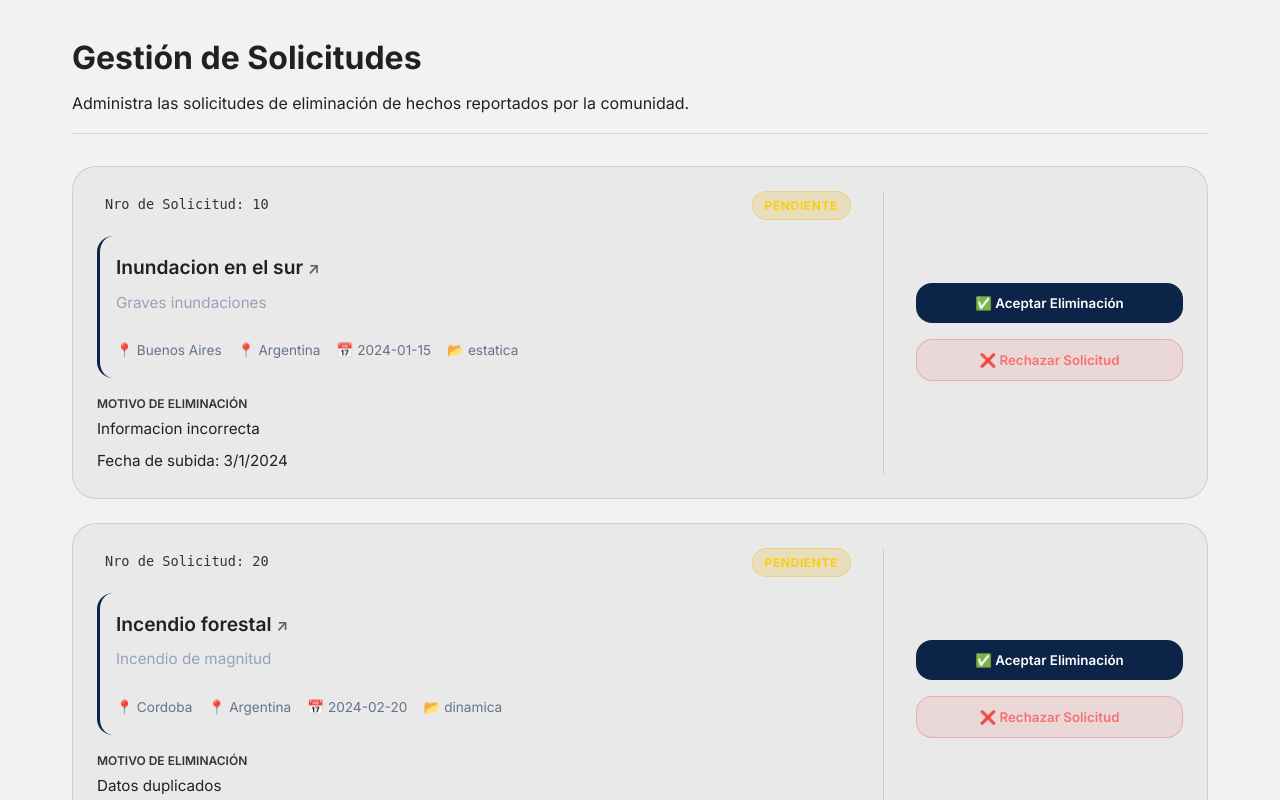
Test case: GestionSolicitudes › estado de procesamiento › muestra "Procesando..." y deshabilita botones durante la accion
Click the button "✅ Aceptar Eliminación" in the row of "Graves inundaciones" at {"x": 1050, "y": 303}, box [916,283,1183,323]
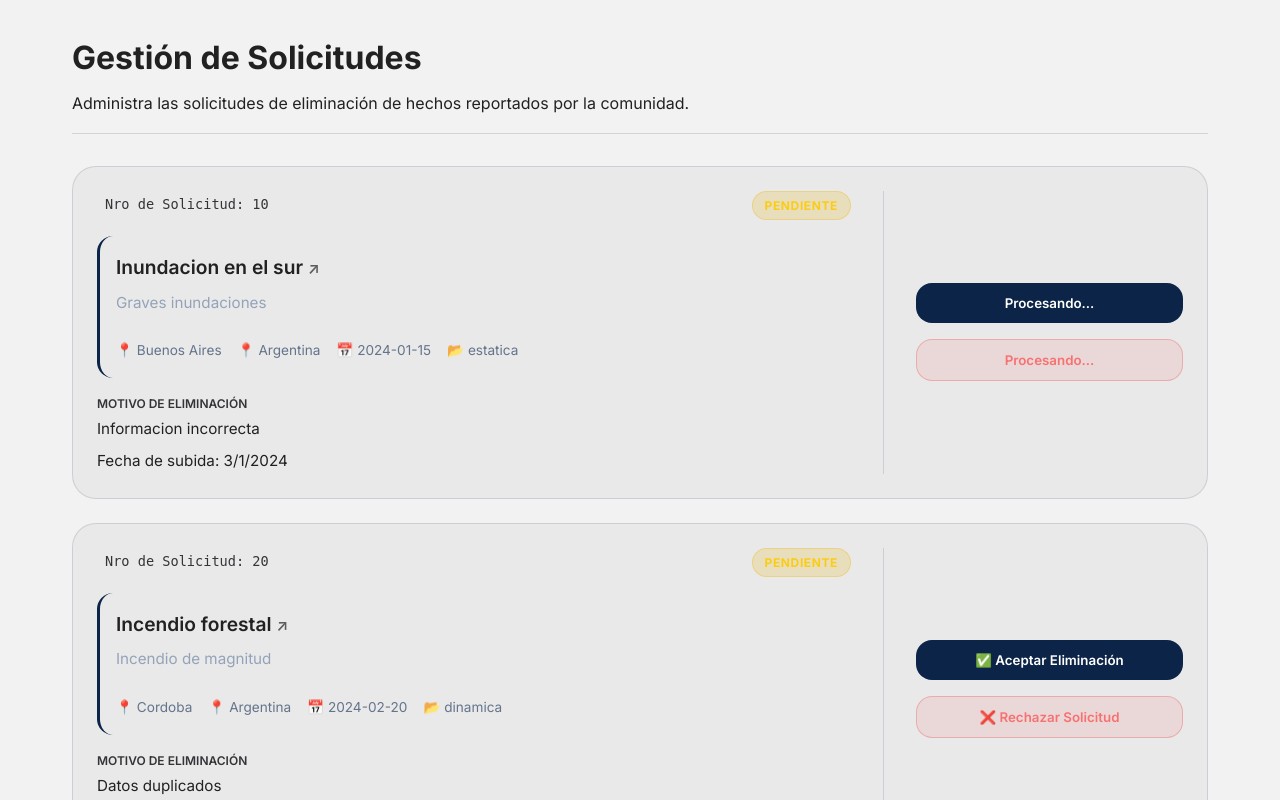
expect the number of buttons "Procesando..." is 2: met, box [916,283,1183,323]; [916,339,1183,381]
expect the 1st button "Procesando..." is disabled: met, box [916,283,1183,323]
expect the 2nd button "Procesando..." is disabled: met, box [916,339,1183,381]
